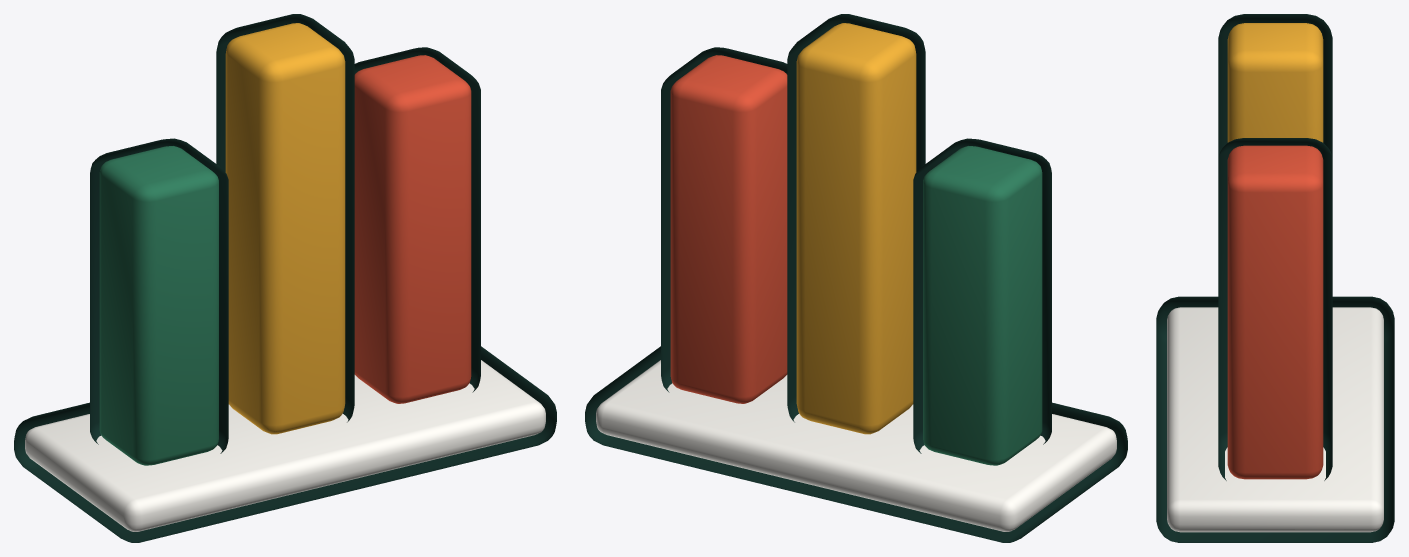
File: icon-dashboards.glb
3 renders of one model, left to right at view 1: azimuth 30°, elevation 25°; view 2: azimuth 150°, elevation 25°; view 3: azimuth 270°, elevation 25°, orthographic.
Parts seen in each view (by area): view 1: Bar1, Base, Bar2, Bar0; view 2: Bar1, Base, Bar2, Bar0; view 3: Bar2, Base, Bar1.
Part boxes in pixels (box(x1,y1,x2,y2)): Bar1: box(216, 14, 354, 434); Base: box(14, 346, 556, 542); Bar2: box(354, 47, 480, 403); Bar0: box(90, 138, 228, 465); Bar1: box(787, 14, 925, 434); Base: box(585, 346, 1127, 542); Bar2: box(661, 47, 787, 403); Bar0: box(913, 138, 1051, 465); Bar2: box(1218, 138, 1332, 480); Base: box(1156, 296, 1394, 542); Bar1: box(1218, 14, 1332, 157).
Bounding box in the file's own units: 1.15 × 1.06 × 0.5495.
